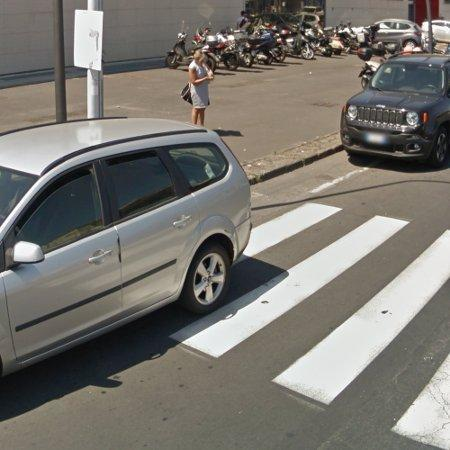crosswalks: (173, 198, 450, 447)
